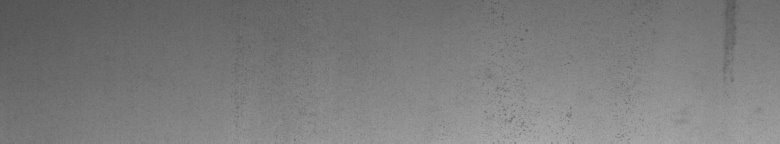ib: (484, 8, 572, 128)
